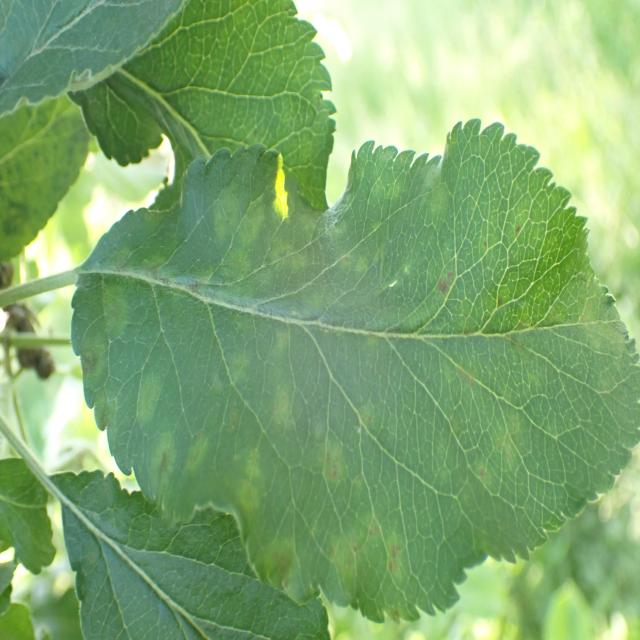scab: (83, 188, 620, 572)
